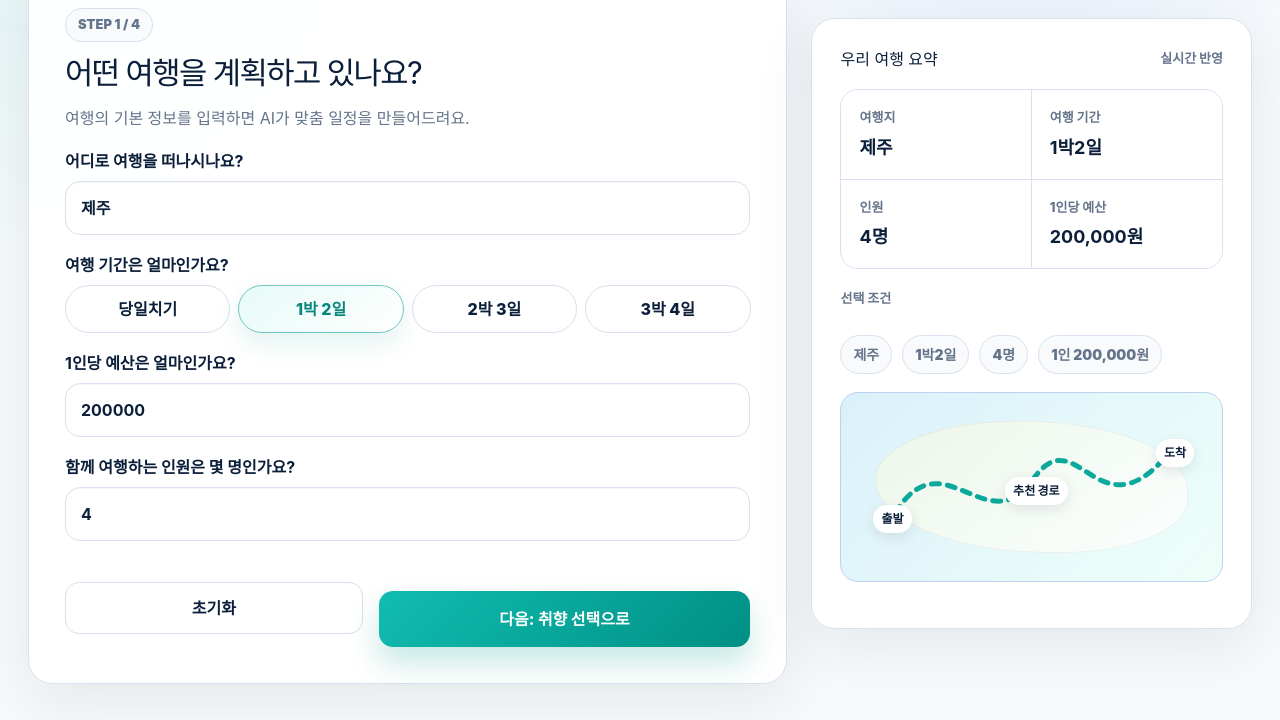
Test case: DemoPlanner › shows a recoverable error when generation fails
(page scrolled)
Click the button "다음: 취향 선택으로" at (564, 619), box [378, 591, 750, 647]
(page scrolled)
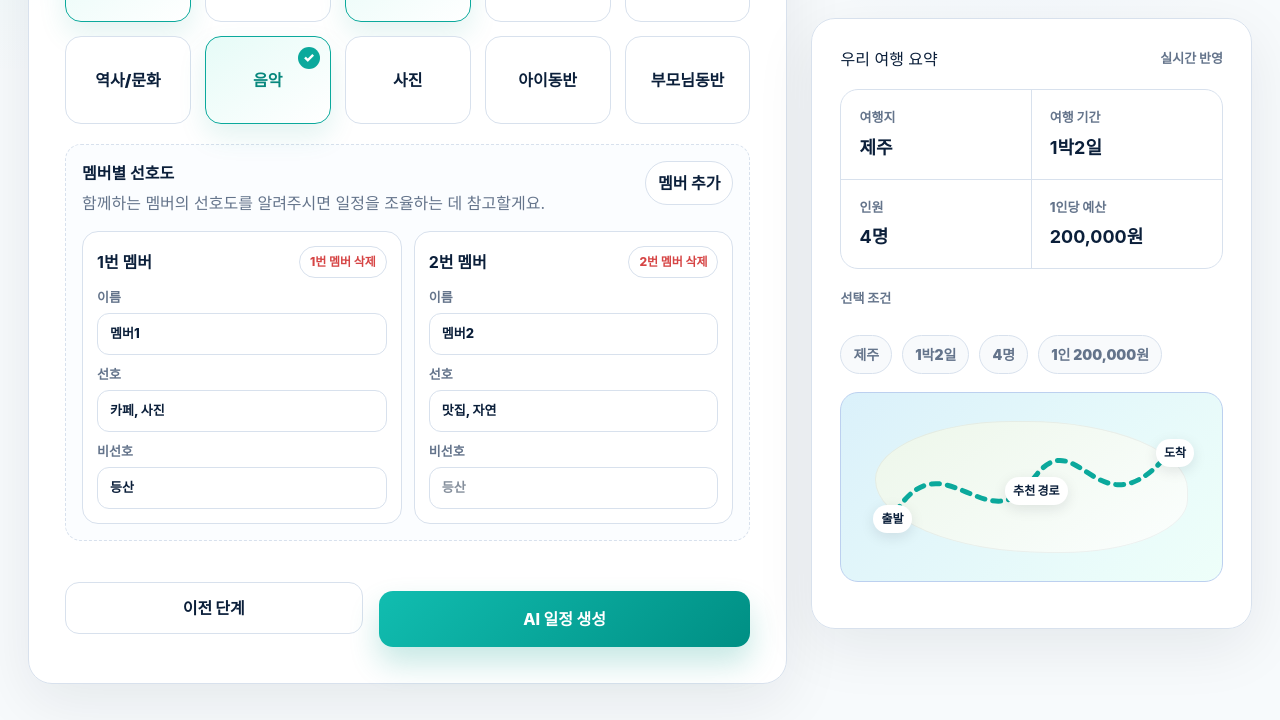
Click the button "AI 일정 생성" at (564, 619), box [378, 591, 750, 647]
(page scrolled)
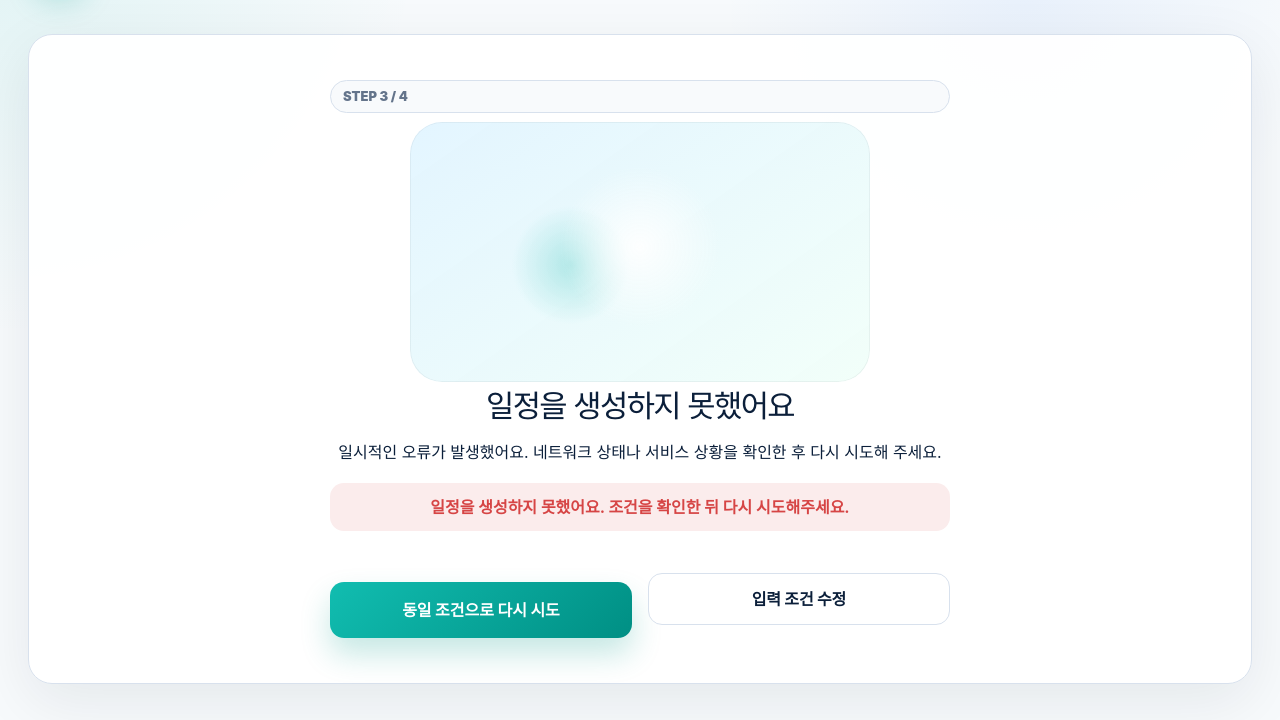
expect the message shows "일정을 생성하지 못했어요.": met, box [430, 497, 850, 517]
